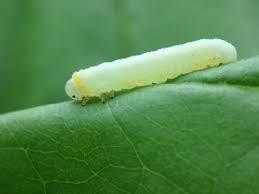Insects: (61, 36, 239, 108)
